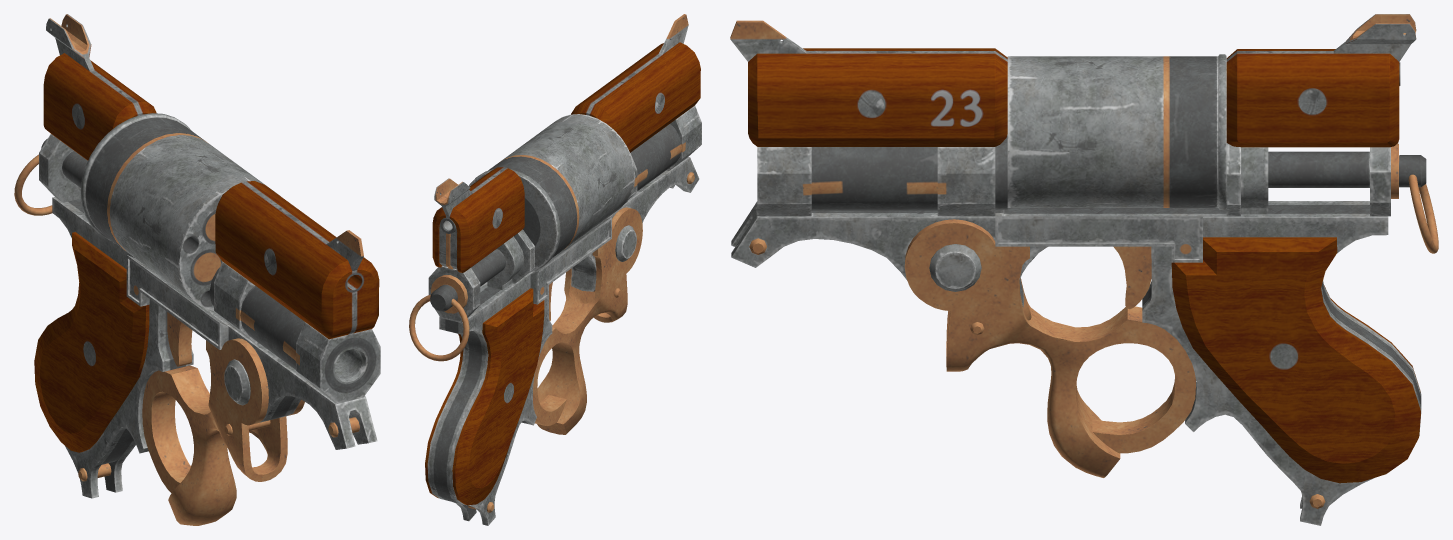
Rendered from steampunk_revolver.glb.
3 renders of one model, left to right at view 1: azimuth 30°, elevation 25°; view 2: azimuth 150°, elevation 25°; view 3: azimuth 270°, elevation 25°, orthographic. The views are drawn at different scales.
Parts seen in each view (by area): view 1: Steampunk Revolver; view 2: Steampunk Revolver; view 3: Steampunk Revolver.
Part boxes in pixels (box(x1,y1,x2,y2)): Steampunk Revolver: box(14, 14, 380, 525); Steampunk Revolver: box(409, 14, 701, 525); Steampunk Revolver: box(730, 14, 1438, 525).
Bounding box in the file's own units: 0.0581 × 0.2053 × 0.2646.
Materials: 1 (1 with a texture image).
